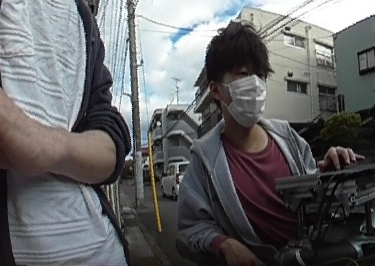person: (175, 21, 349, 266)
